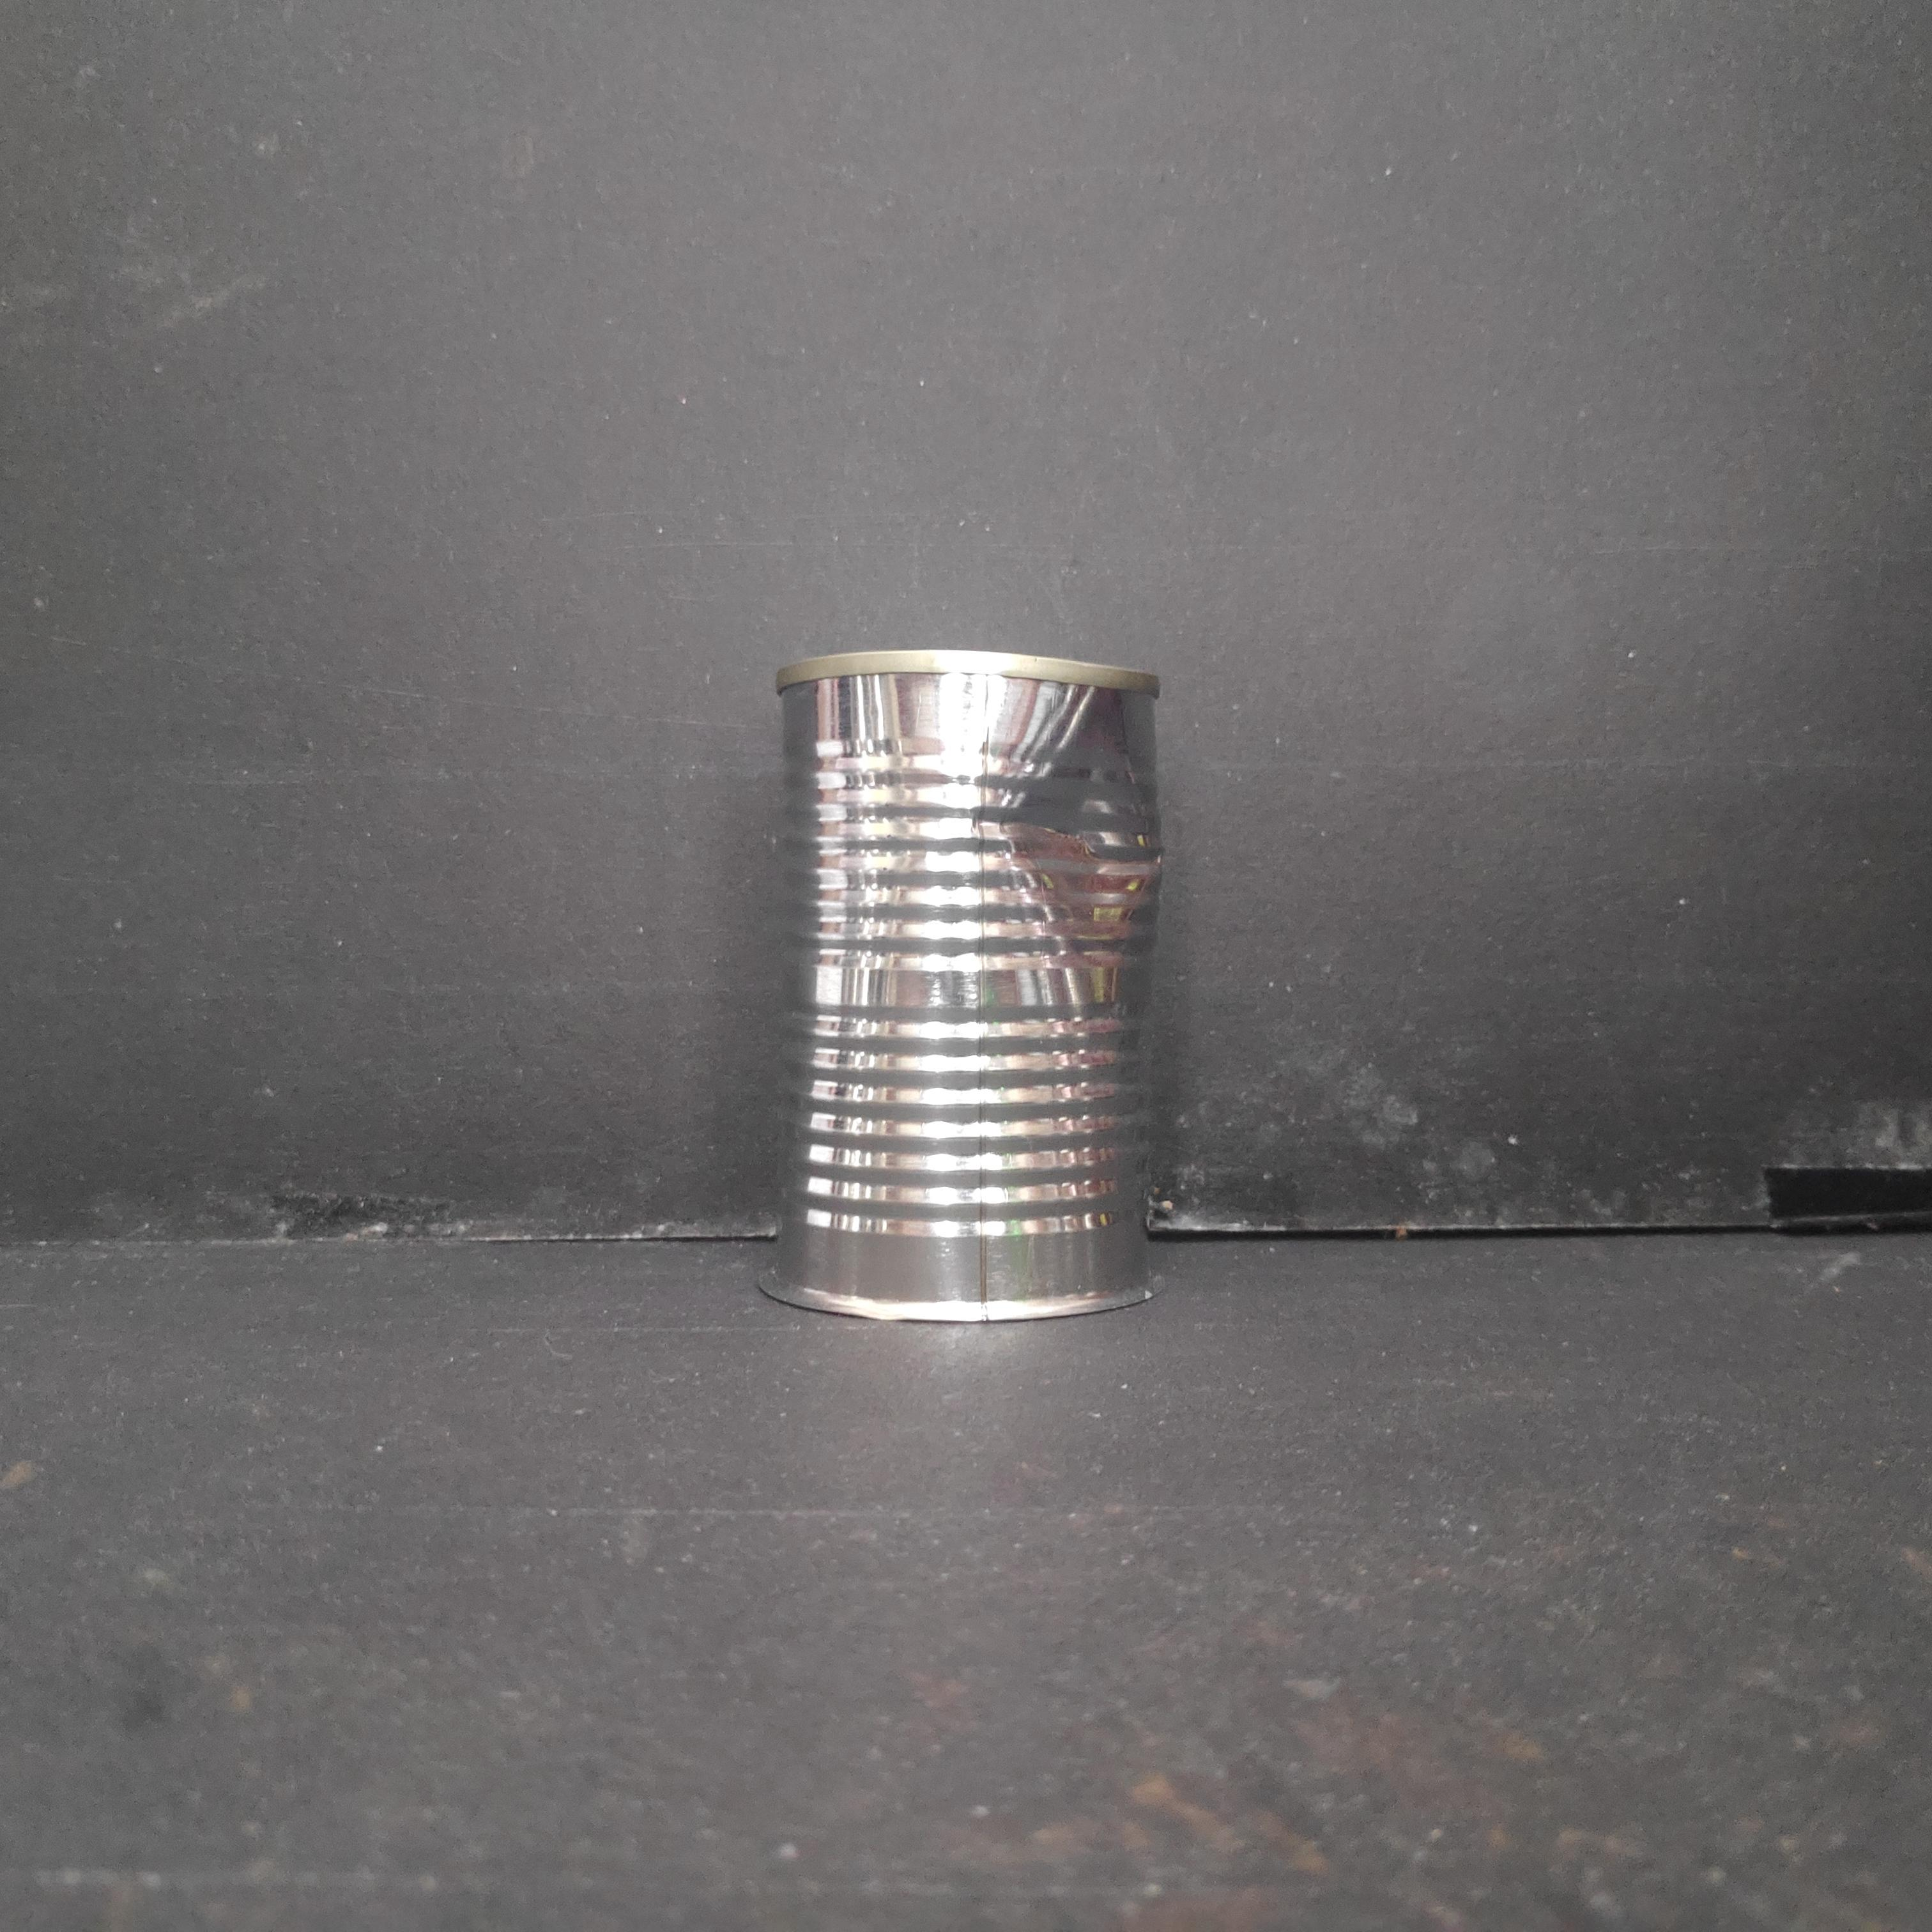Minor Defect: (768, 640, 1173, 1338)
